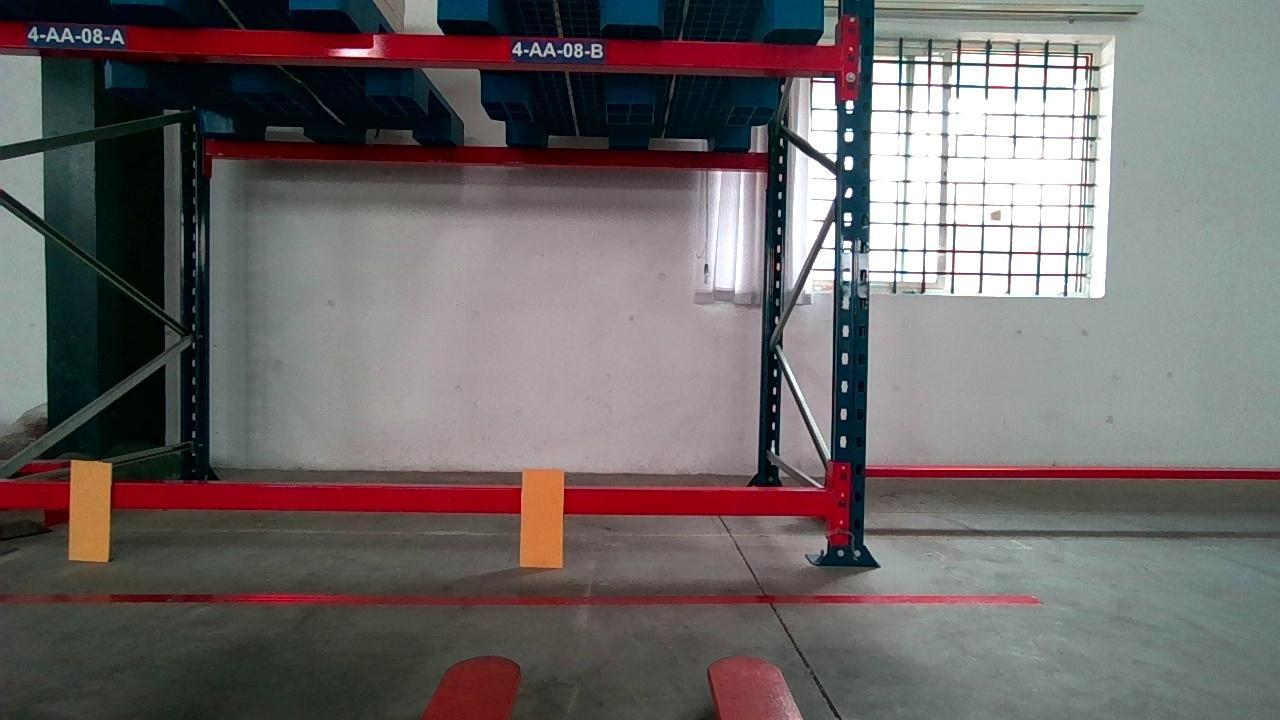h_rack: (0, 20, 840, 69), (3, 479, 834, 516)
orange_strip: (70, 460, 112, 560), (520, 469, 562, 566)
red_line: (1, 590, 1040, 606)
small_pallet: (433, 0, 824, 30)
